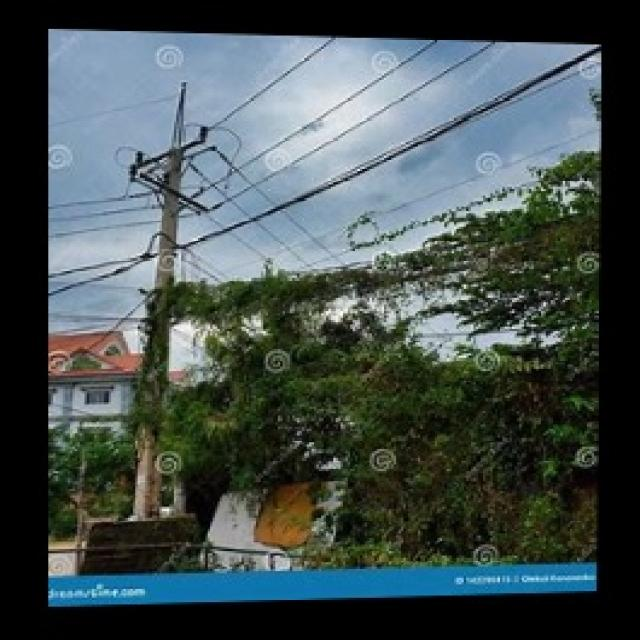critical vegetation: (146, 247, 594, 375)
